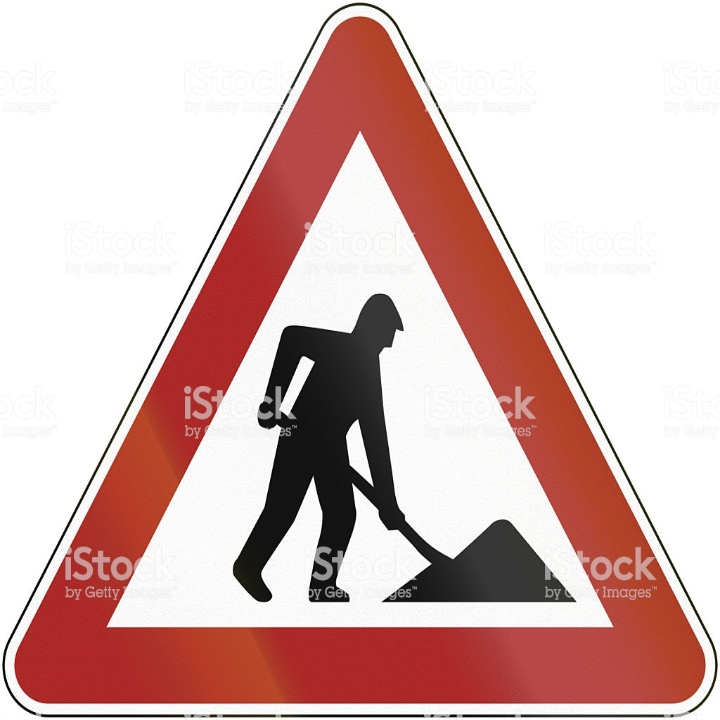const: (211, 275, 583, 605)
